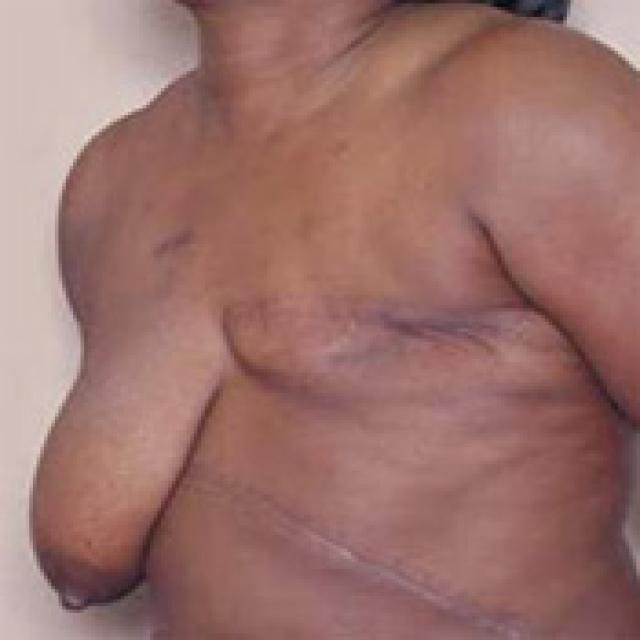Seno herido: (230, 252, 586, 478)
Seno ileso: (21, 252, 224, 635)
